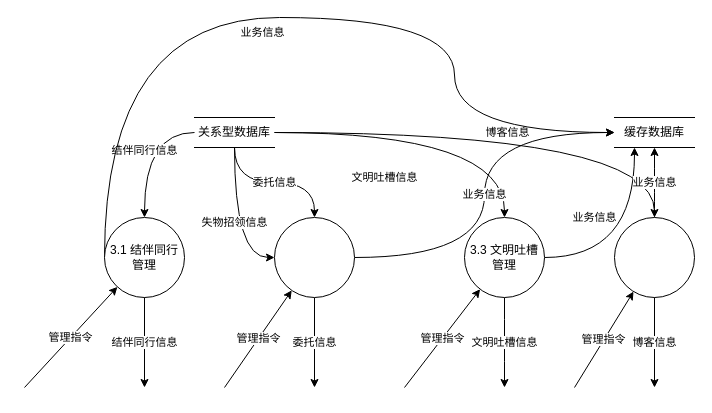
This 712x413 diagram has some shape labels left out. Each missing label, with the centre of its shape:
"3.2 委托管理" goes at point (314, 257).
"3.4 博客管理" goes at point (654, 257).
